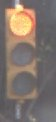Red: (2, 8, 41, 103)
